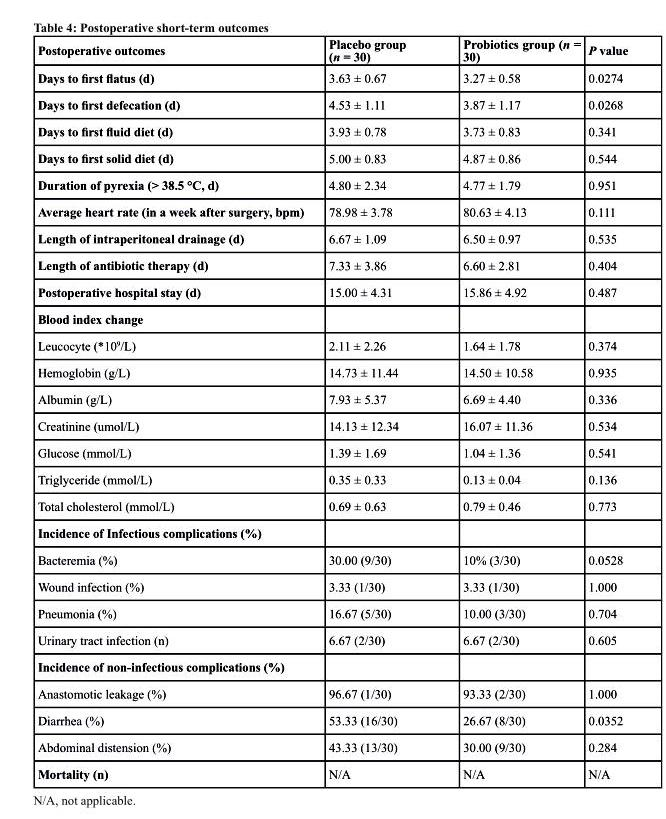table: (36, 36, 627, 780)
table column: (36, 36, 315, 780), (433, 36, 583, 780), (315, 36, 433, 780), (583, 36, 627, 780)
table column header: (36, 36, 627, 66)
table projected row header: (36, 305, 627, 331), (36, 519, 627, 545), (36, 653, 627, 679)
table row: (36, 36, 627, 66), (36, 90, 627, 117), (36, 117, 627, 144), (36, 144, 627, 171), (36, 197, 627, 224), (36, 224, 627, 251), (36, 251, 627, 278), (36, 278, 627, 305), (36, 331, 627, 358), (36, 358, 627, 385), (36, 385, 627, 412), (36, 438, 627, 465), (36, 465, 627, 492), (36, 492, 627, 519), (36, 545, 627, 572), (36, 572, 627, 599), (36, 599, 627, 626), (36, 626, 627, 653), (36, 679, 627, 706), (36, 706, 627, 733), (36, 733, 627, 760), (36, 171, 627, 197), (36, 305, 627, 331), (36, 412, 627, 438), (36, 519, 627, 545), (36, 653, 627, 679), (36, 66, 627, 90), (36, 760, 627, 780)
